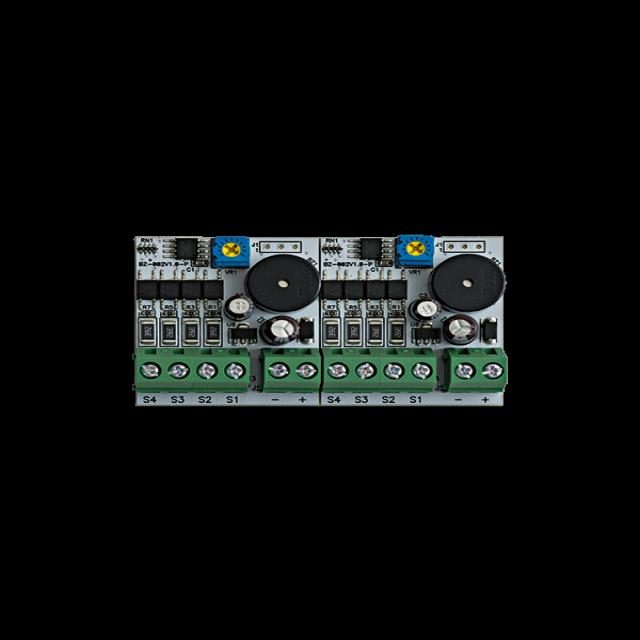IC: (166, 238, 206, 259), (353, 237, 388, 260), (385, 276, 409, 305), (343, 276, 365, 306), (158, 276, 181, 303), (320, 276, 342, 304), (365, 276, 386, 304), (136, 277, 158, 303), (202, 274, 224, 300), (412, 325, 442, 343), (230, 323, 256, 343), (182, 274, 199, 303)
buzzer: (425, 254, 508, 310), (244, 255, 320, 315)
capacitor 1V5: (444, 309, 480, 346), (258, 314, 298, 346), (411, 298, 444, 322), (225, 292, 252, 320), (189, 260, 209, 266), (379, 260, 390, 267)
connector -5v-: (136, 348, 253, 391), (320, 348, 438, 390), (444, 345, 506, 393), (262, 349, 322, 394)
diode -D1-: (482, 314, 502, 344), (300, 316, 318, 344)
potentiometer POT1: (213, 237, 252, 267), (396, 237, 436, 266)
resistor IR1: (201, 320, 220, 342), (182, 321, 200, 342), (347, 321, 362, 345), (366, 322, 384, 342), (140, 321, 157, 342), (162, 321, 178, 343), (137, 242, 159, 257), (326, 320, 341, 342), (389, 321, 404, 343), (322, 243, 343, 256), (346, 308, 362, 320), (389, 310, 407, 319), (137, 308, 157, 316), (182, 308, 198, 318), (204, 310, 222, 318), (326, 308, 341, 317), (367, 310, 383, 318), (161, 309, 177, 317)
